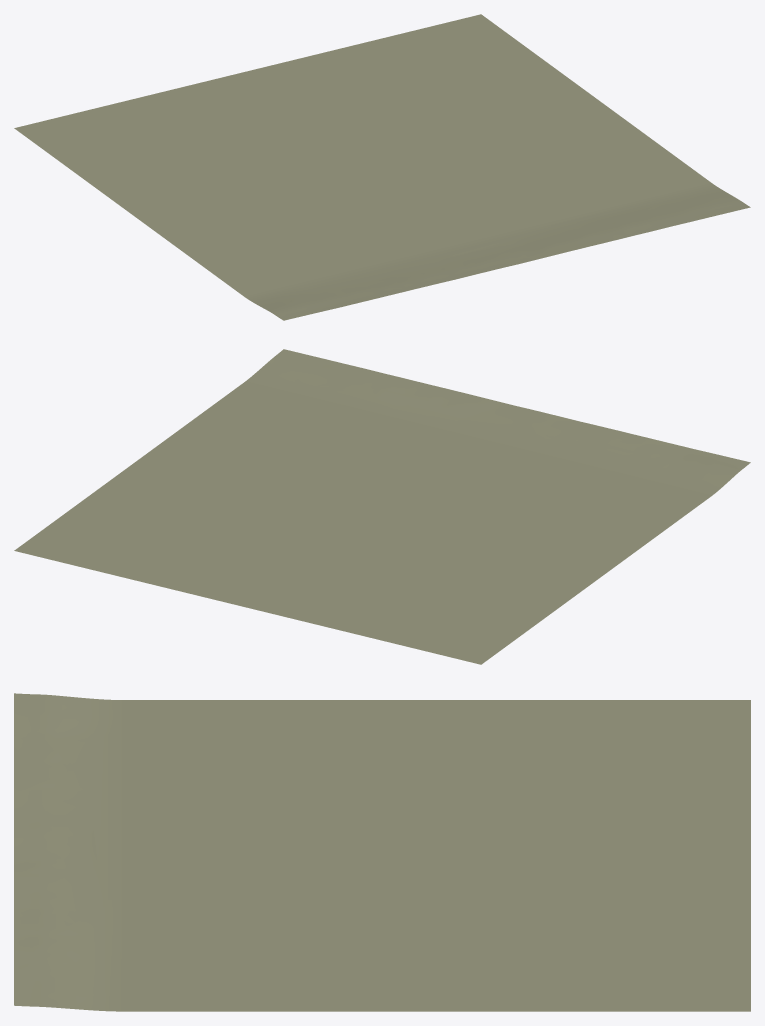
The model's file is SM_VB_CityTerrain_2_5.fbx.
3 views of the same model, one above another, from view 1: azimuth 30°, elevation 25°; view 2: azimuth 150°, elevation 25°; view 3: azimuth 270°, elevation 25° (orthographic). The views are drawn at different scales.
Visible parts, largest first — view 1: SM_VB_CityTerrain_2_5; view 2: SM_VB_CityTerrain_2_5; view 3: SM_VB_CityTerrain_2_5.
Part boxes in pixels (x1,y1,x2,y2): SM_VB_CityTerrain_2_5: (14,14,750,320); SM_VB_CityTerrain_2_5: (14,349,750,664); SM_VB_CityTerrain_2_5: (14,693,750,1011).
Size of the model in its own units: 600 by 6.05 by 600.
